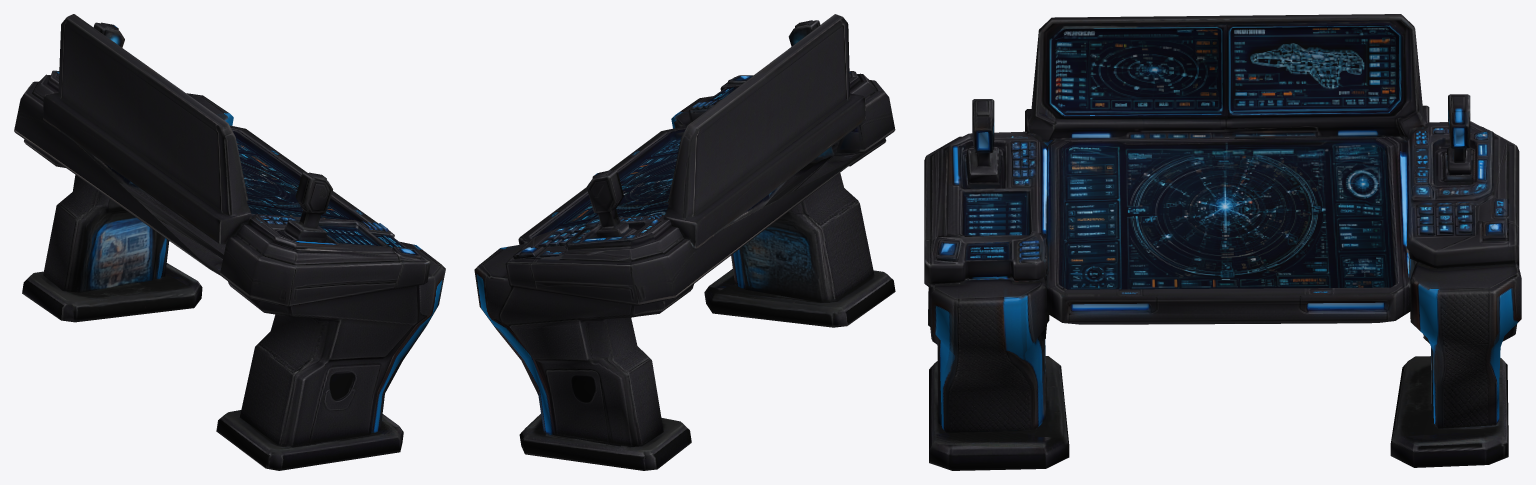
File: RouteControl-BlenderFBX.fbx
3 views of the same model, side by side, from view 1: azimuth 30°, elevation 25°; view 2: azimuth 150°, elevation 25°; view 3: azimuth 270°, elevation 25° (orthographic). The views are drawn at different scales.
Parts seen in each view (by area): view 1: meshes[0]; view 2: meshes[0]; view 3: meshes[0].
Part boxes in pixels (bbox=[...]): meshes[0]: bbox=[14, 14, 445, 470]; meshes[0]: bbox=[474, 14, 895, 470]; meshes[0]: bbox=[924, 14, 1521, 470].
Bounding box in the file's own units: 0.4629 × 0.6934 × 0.998.
